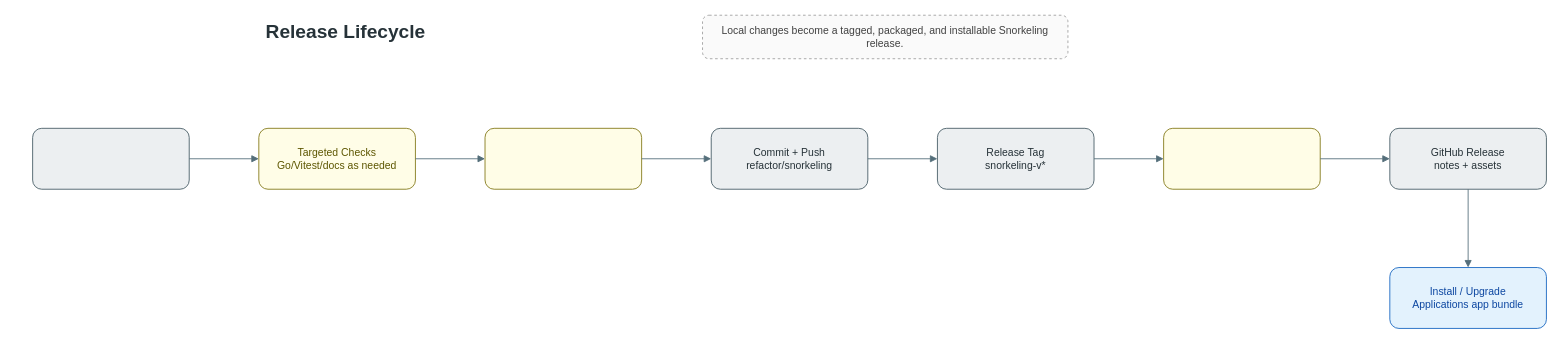
This 1562x344 diagram has some shape labels left out. Each missing label, with the box of its shape:
GitHub Actions build package artifacts: (1163, 127, 1320, 189)
Local Changes feature/fix/docs: (32, 127, 189, 189)
Version Bump version.cjs / package metadata: (484, 127, 642, 189)
